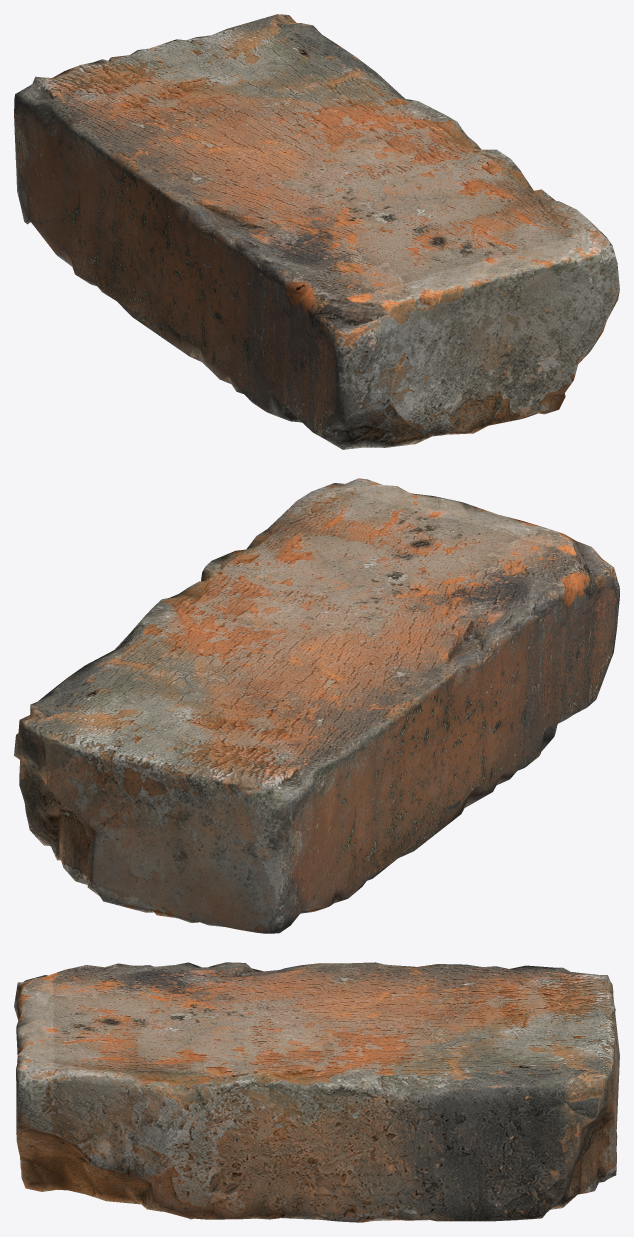
File: sm_Brick_02_01.fbx
The picture shows the model from 3 angles, top to bottom: view 1: azimuth 30°, elevation 25°; view 2: azimuth 150°, elevation 25°; view 3: azimuth 270°, elevation 25°; orthographic projection. The views are drawn at different scales.
Parts seen in each view (by area): view 1: sm_Brick_02_01_LOD0; view 2: sm_Brick_02_01_LOD0; view 3: sm_Brick_02_01_LOD0.
Boxes of the visible parts, x1,y1,x2,y2 form: sm_Brick_02_01_LOD0: [14, 14, 619, 449]; sm_Brick_02_01_LOD0: [14, 478, 619, 933]; sm_Brick_02_01_LOD0: [14, 962, 619, 1222].
Size of the model in its own units: 13.16 by 26.13 by 7.07.
